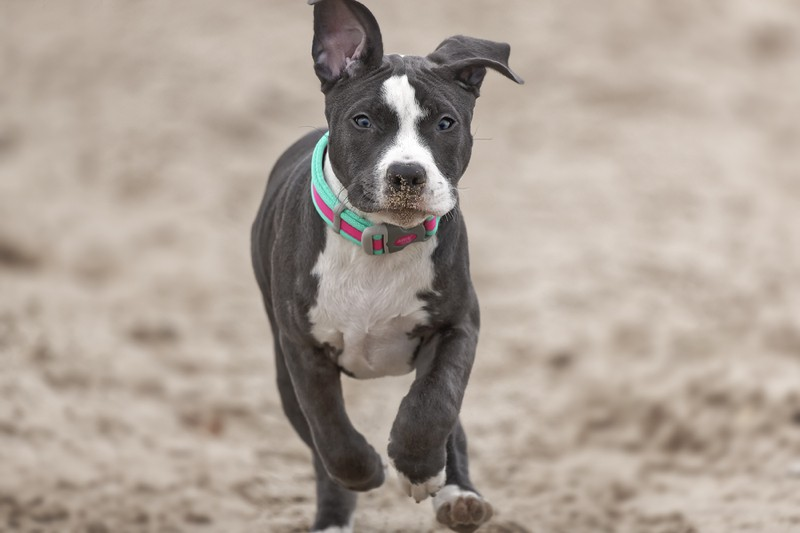am_pit_bull_terrier: (249, 0, 523, 533)
